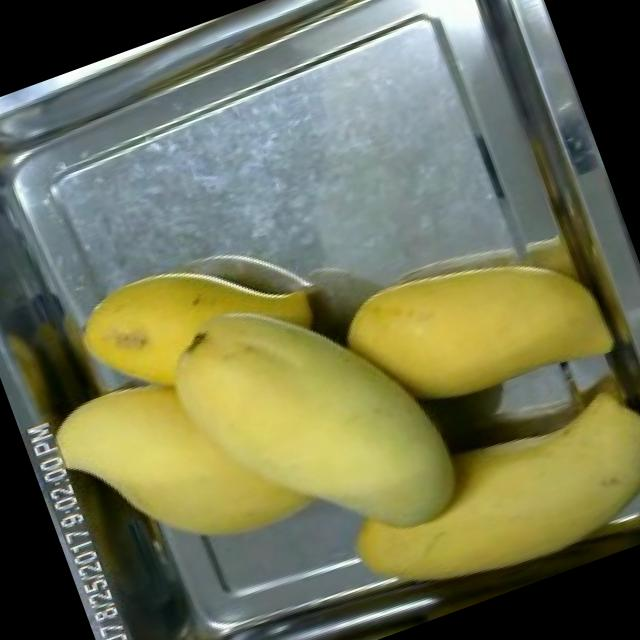fruit: (22, 232, 476, 606), (314, 206, 634, 452), (348, 363, 640, 625)
